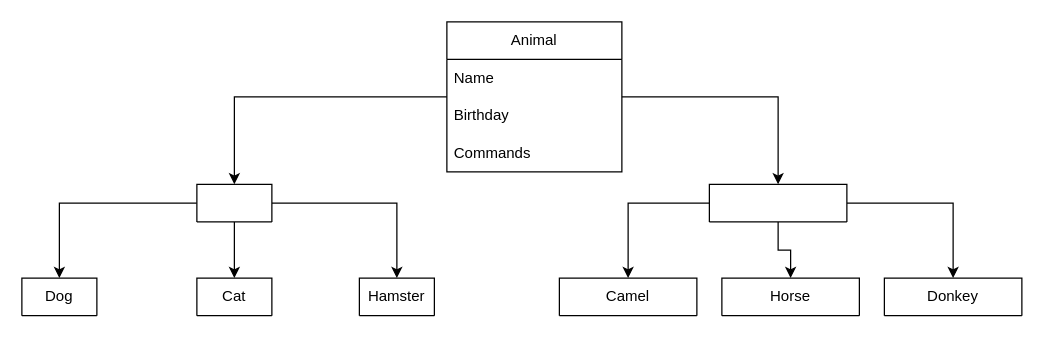
Some shapes in this 1044 by 338 pixel diagram are drawn without their labels. The centre of each missing label's shape, as x and y in pixels:
"Pack Animal" belongs at [777,202].
"Pet" belongs at [234,202].
